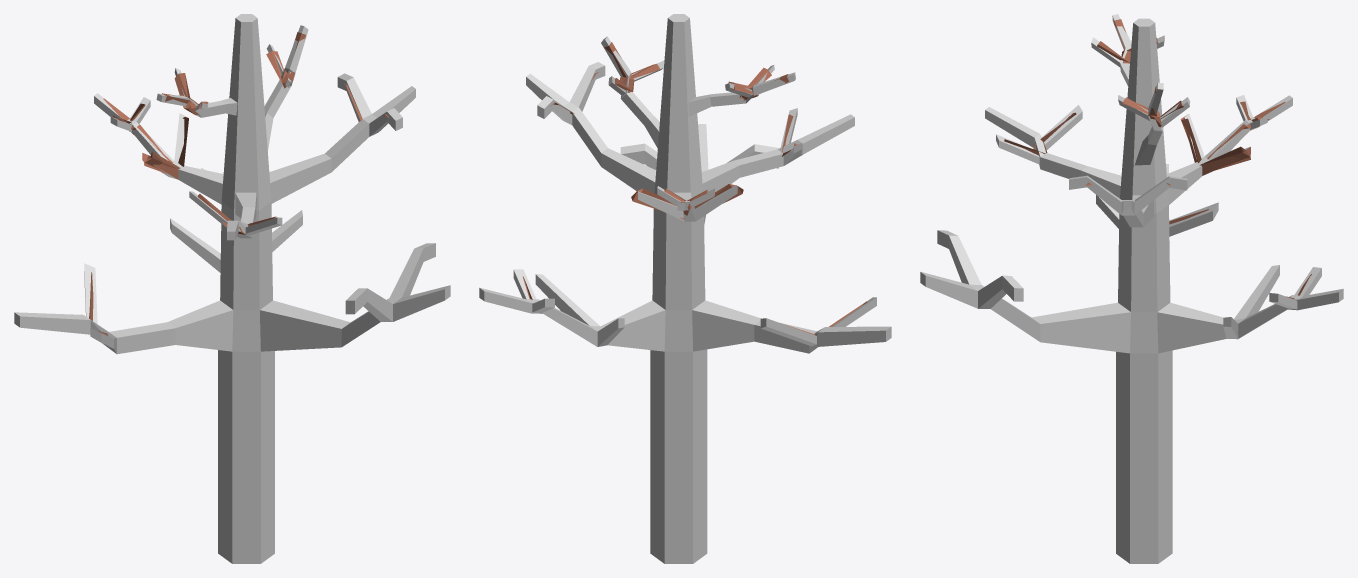
Rendered from resource__plant__twig-plant.fbx.
3 views of the same model, side by side, from view 1: azimuth 30°, elevation 25°; view 2: azimuth 150°, elevation 25°; view 3: azimuth 270°, elevation 25° (orthographic).
Visible parts, largest first — view 1: TwigPlant; view 2: TwigPlant; view 3: TwigPlant.
Boxes of the visible parts, <box> form: TwigPlant: <box>14,14,450,563</box>; TwigPlant: <box>479,14,891,563</box>; TwigPlant: <box>920,14,1343,563</box>.
Size of the model in its own units: 76.56 by 103 by 74.81.
